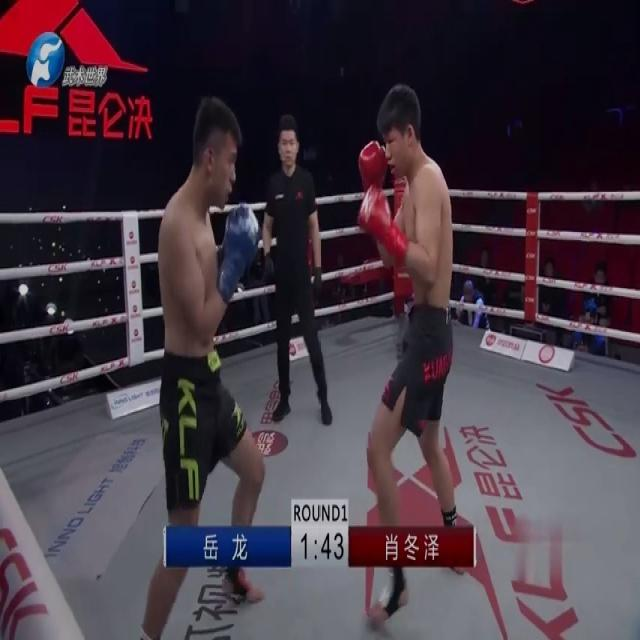fight: (121, 71, 480, 638)
non-fight: (257, 111, 332, 425)
